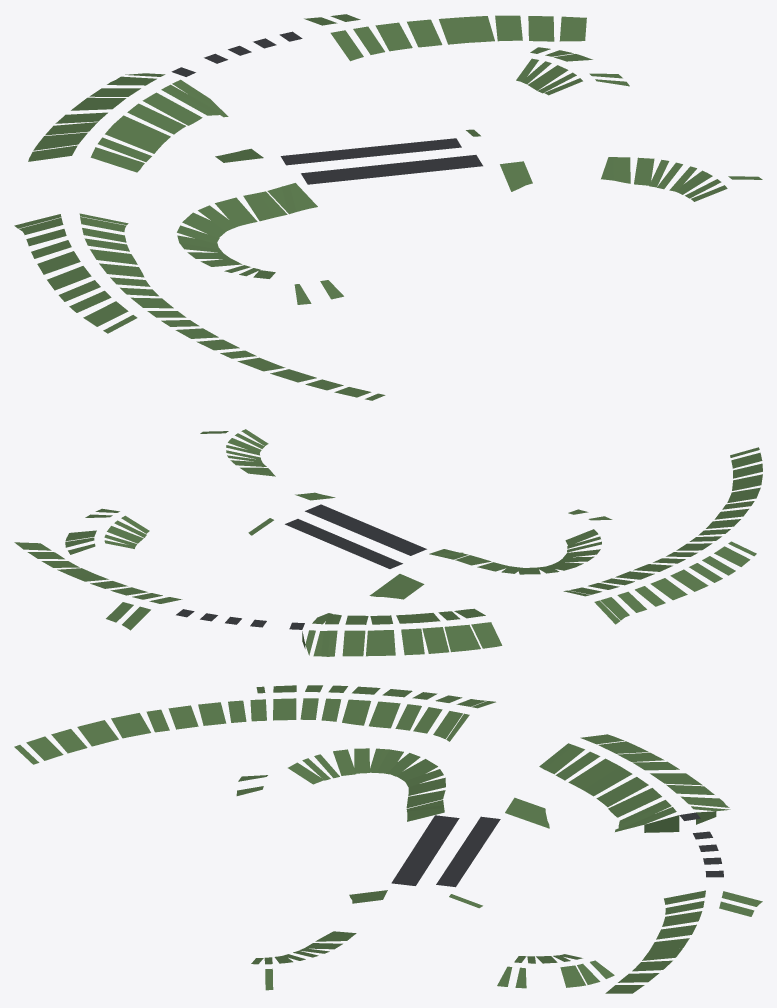
Rendered from br_h52_sherwood_park_1_lod3.gltf.
The picture shows the model from 3 angles, top to bottom: view 1: azimuth 30°, elevation 25°; view 2: azimuth 150°, elevation 25°; view 3: azimuth 270°, elevation 25°; orthographic projection. The views are drawn at different scales.
Parts seen in each view (by area): view 1: br_h52_sherwood_park_1_lod3; view 2: br_h52_sherwood_park_1_lod3; view 3: br_h52_sherwood_park_1_lod3.
Part boxes in pixels (bbox=[...]): br_h52_sherwood_park_1_lod3: bbox=[14, 14, 762, 400]; br_h52_sherwood_park_1_lod3: bbox=[14, 429, 762, 656]; br_h52_sherwood_park_1_lod3: bbox=[14, 685, 762, 993].
Size of the model in its own units: 563 by 19.54 by 582.
